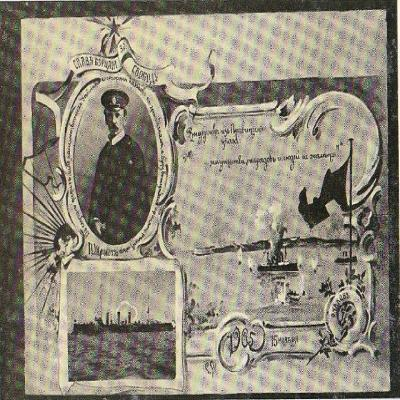graphics: (19, 10, 392, 399)
